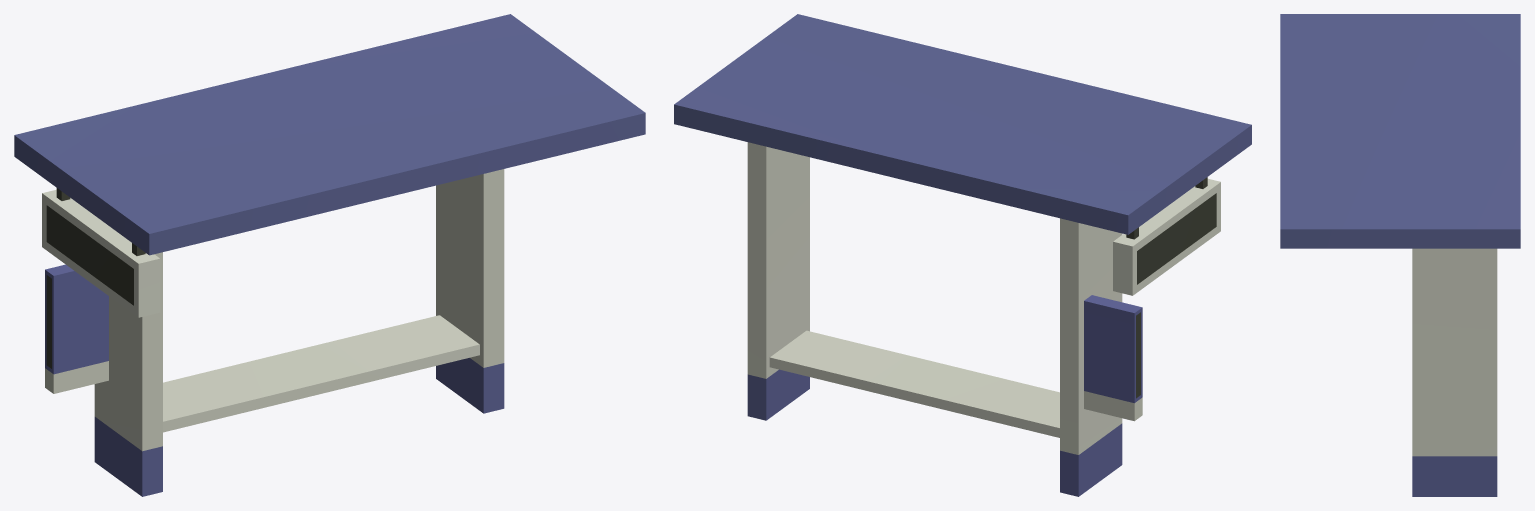
Rendered from busstop_1.glb.
3 views of the same model, side by side, from view 1: azimuth 30°, elevation 25°; view 2: azimuth 150°, elevation 25°; view 3: azimuth 270°, elevation 25° (orthographic). The views are drawn at different scales.
Visible parts, largest first — view 1: Tram_Stop; view 2: Tram_Stop; view 3: Tram_Stop.
Boxes of the visible parts, x1,y1,x2,y2 form: Tram_Stop: (14,14,645,496); Tram_Stop: (674,14,1251,496); Tram_Stop: (1280,14,1520,496).
Size of the model in its own units: 1.38 by 0.8835 by 0.6484.
Materials: 1 (1 with a texture image).
